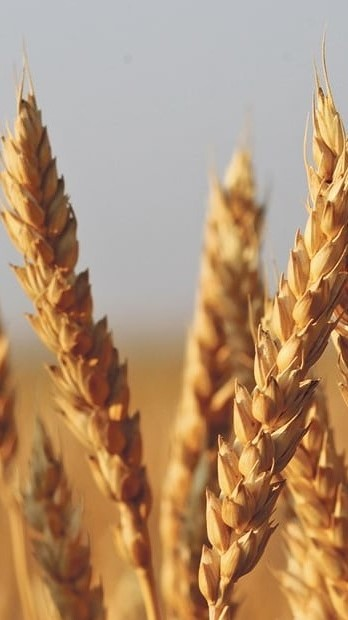Healthy Wheat: (192, 100, 348, 593), (4, 90, 164, 522)
